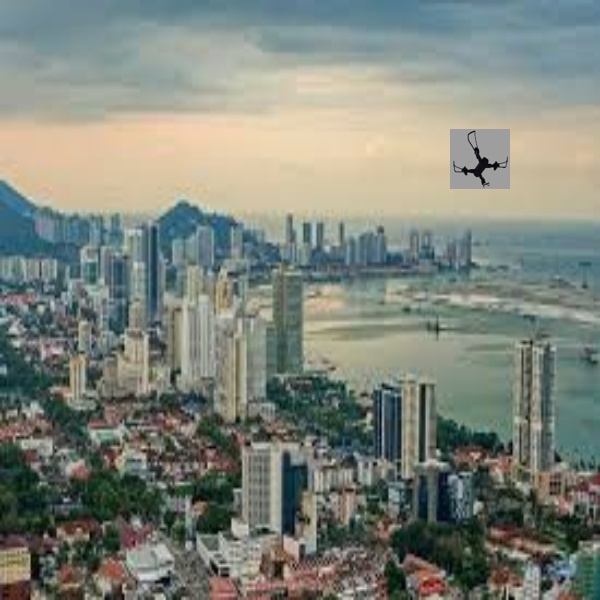drone: (445, 125, 510, 191)
